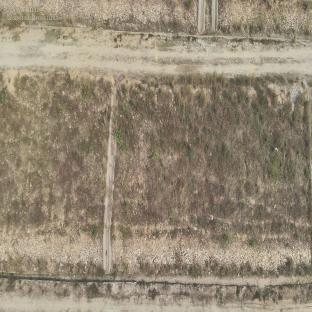rock_toe: (114, 226, 311, 270), (0, 226, 101, 269)
slope_drain: (103, 90, 119, 275)
toe_drain: (0, 271, 312, 288)
